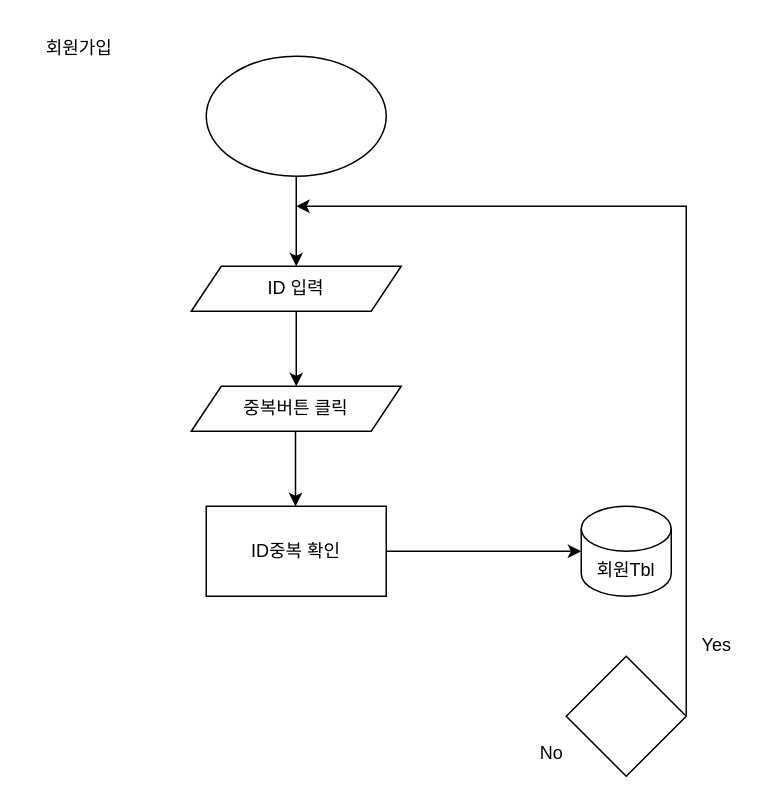
Image size: 771x803. Some labels were removed from this diagram. Each missing label, with the centre of its shape:
"id 존재?" belongs at point (625, 715).
"시작" belongs at point (295, 115).
